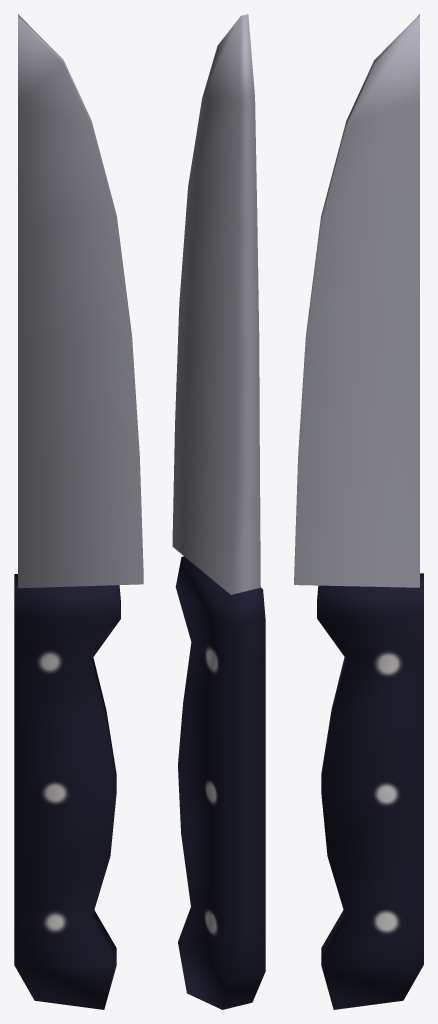
Rendered from cuchillo.fbx.
The picture shows the model from 3 angles, left to right: view 1: azimuth 90°, elevation 25°; view 2: azimuth 210°, elevation 25°; view 3: azimuth 270°, elevation 25°; orthographic projection. The views are drawn at different scales.
Visible parts, largest first — view 1: Cube.001, Cube; view 2: Cube.001, Cube; view 3: Cube.001, Cube.
Boxes of the visible parts, box(x1,y1,x2,y2) form: Cube.001: box(18, 14, 143, 588); Cube: box(14, 574, 120, 1009); Cube.001: box(172, 14, 260, 594); Cube: box(175, 556, 265, 1009); Cube.001: box(294, 14, 419, 587); Cube: box(317, 573, 423, 1009).
Bounding box in the file's own units: 2.23 × 60.95 × 7.25.
